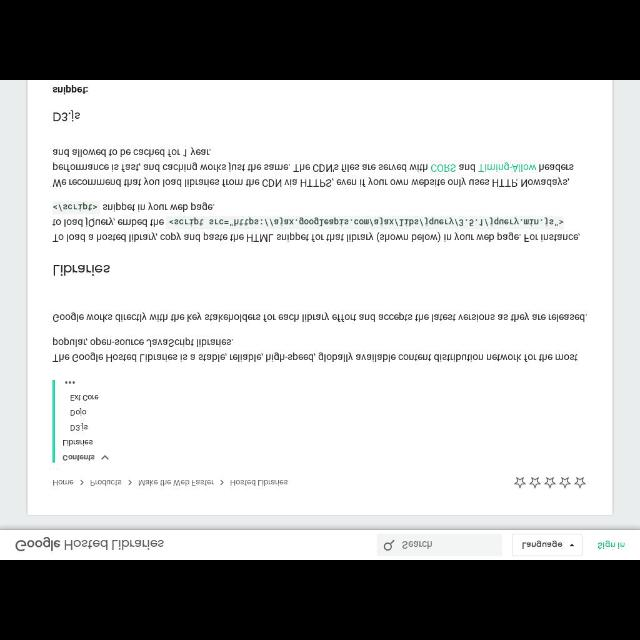icon: (544, 477, 556, 488), (560, 477, 570, 488), (574, 478, 586, 487), (384, 540, 394, 550), (515, 477, 525, 487), (530, 478, 540, 487), (64, 380, 76, 384), (78, 479, 84, 486), (102, 455, 108, 461), (128, 478, 132, 486), (220, 478, 224, 486), (570, 543, 574, 547)
input: (378, 534, 502, 556)
multitab: (52, 474, 290, 490)
spinner: (513, 535, 583, 555), (63, 451, 109, 464)
text: (53, 202, 581, 242), (52, 148, 574, 188), (52, 338, 578, 364), (52, 313, 588, 323), (15, 536, 164, 554), (53, 262, 111, 276), (138, 478, 214, 486), (230, 478, 288, 486), (52, 109, 82, 121), (53, 84, 89, 94), (522, 541, 562, 549), (402, 540, 432, 550), (597, 540, 625, 550), (62, 453, 94, 461), (62, 438, 92, 446), (90, 479, 122, 486), (71, 394, 99, 401), (69, 408, 87, 418), (52, 479, 74, 487), (69, 424, 87, 432)
toolbar: (1, 530, 639, 560)
